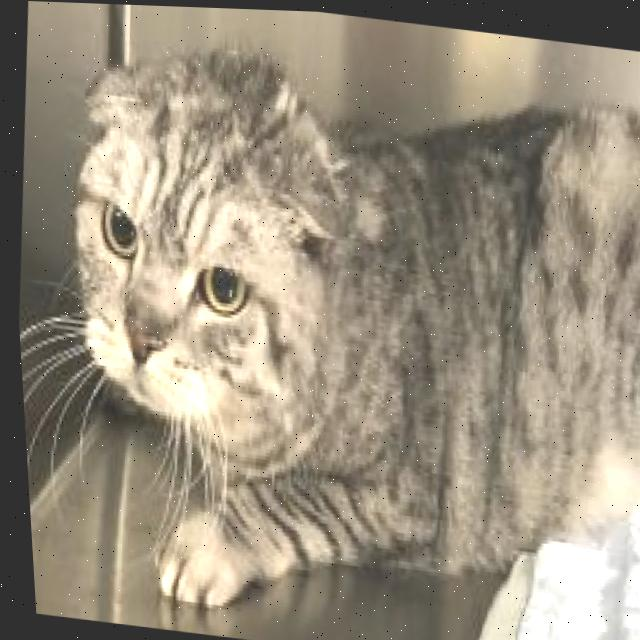Scottish Fold: (25, 10, 640, 640)
